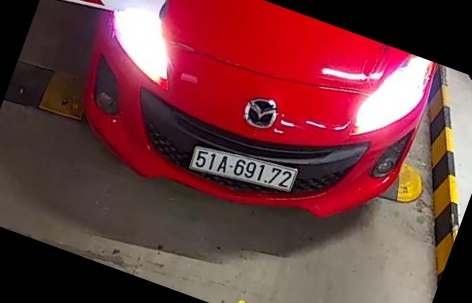plate: (188, 134, 301, 198)
